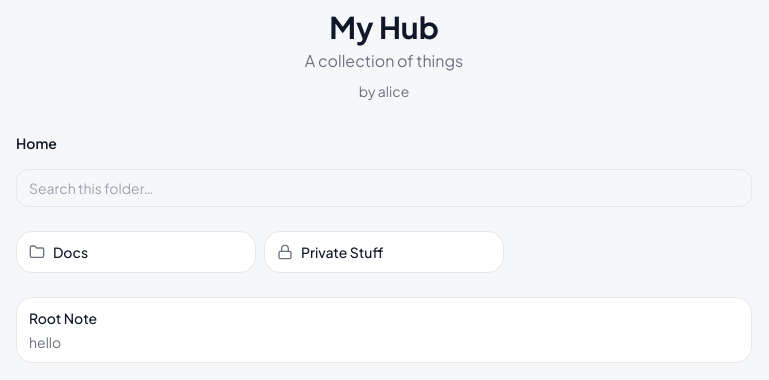
Test case: HubViewer locked nodes › renders a lock affordance for a locked item
Click the button "Docs". click: (136, 252)
box: top-left (16, 231), bottom-right (256, 273)
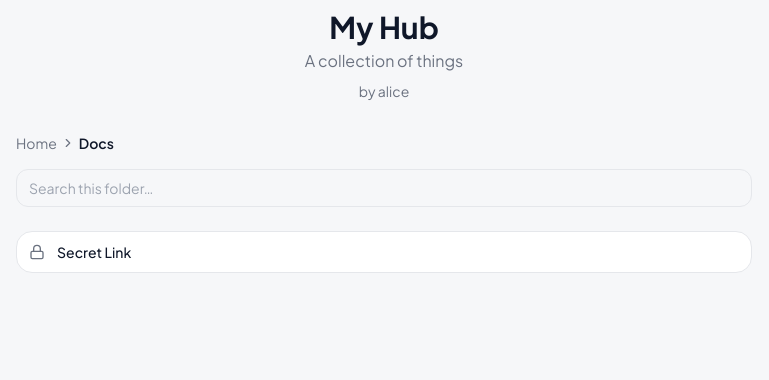
Result: the text "Secret Link" is shown at top-left (57, 243), bottom-right (131, 261)
